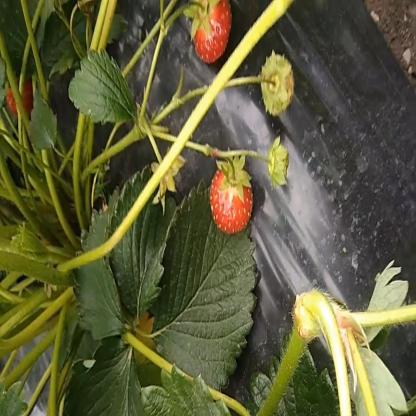ripe: (208, 166, 255, 236), (185, 2, 237, 61)
unripe: (258, 51, 297, 119)
